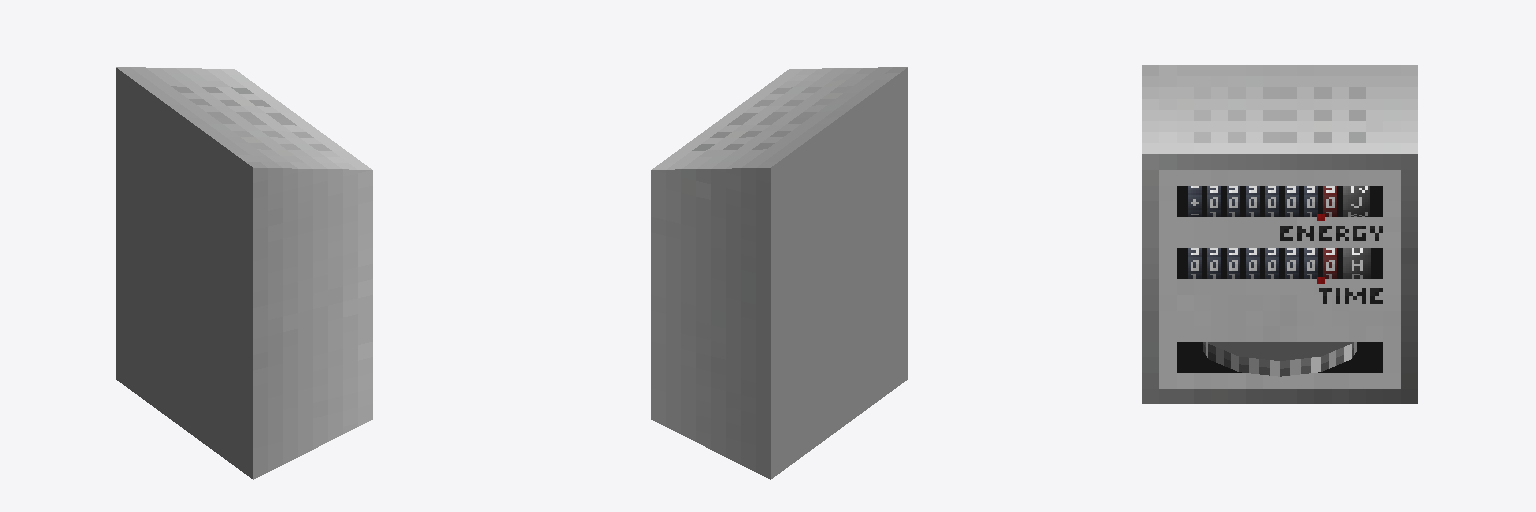
3 renders of one model, left to right at view 1: azimuth 30°, elevation 25°; view 2: azimuth 150°, elevation 25°; view 3: azimuth 270°, elevation 25°, orthographic.
Visible parts, largest first — view 1: Base; view 2: Base; view 3: Base, PowerDisk, TimeUnitWheel, EnergyUnitWheel, EnergyLegend.
Boxes of the visible parts, <box> form: Base: <box>116,67,372,479</box>; Base: <box>651,67,907,479</box>; Base: <box>1142,65,1417,403</box>; PowerDisk: <box>1203,342,1356,376</box>; TimeUnitWheel: <box>1343,248,1370,278</box>; EnergyUnitWheel: <box>1343,186,1369,216</box>; EnergyLegend: <box>1280,226,1382,240</box>.
Bounding box in the file's own units: 0.3 × 0.625 × 0.5.
2 materials, 2 textured.